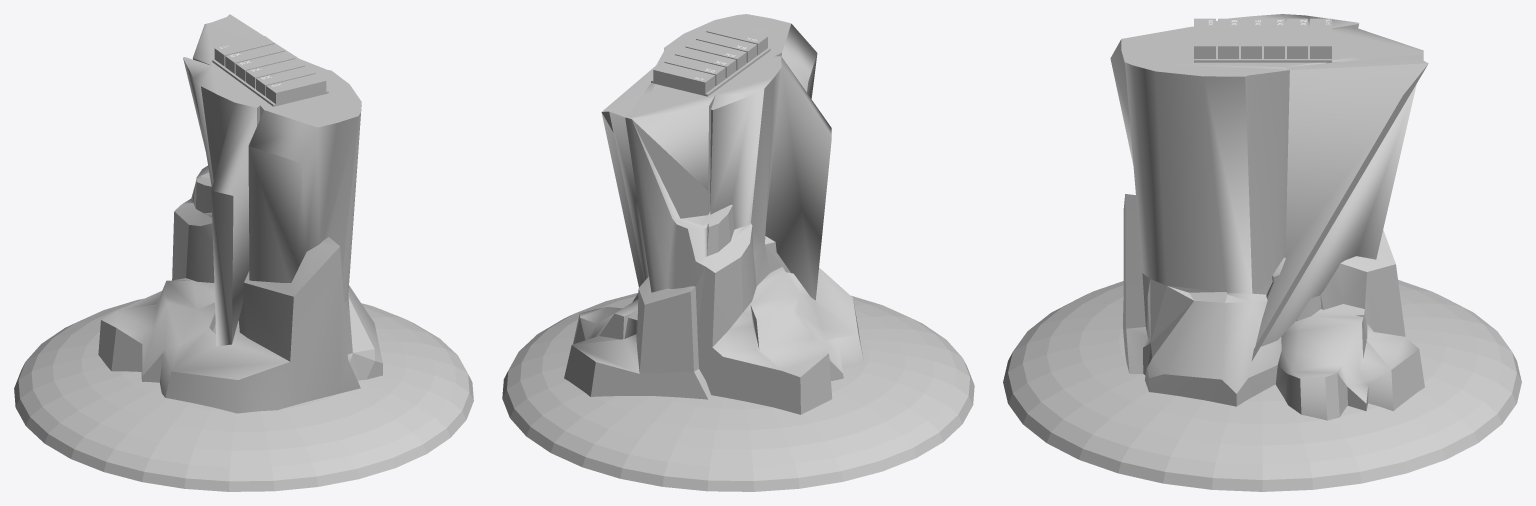
Rendered from platformisland.fbx.
3 views of the same model, side by side, from view 1: azimuth 30°, elevation 25°; view 2: azimuth 150°, elevation 25°; view 3: azimuth 270°, elevation 25° (orthographic). The views are drawn at different scales.
Visible parts, largest first — view 1: Cube.004, Sphere, Cube.002; view 2: Cube.004, Sphere, Cube.002; view 3: Cube.004, Sphere, Cube.002.
Boxes of the visible parts, box(x1,y1,x2,y2) form: Cube.004: box(98, 14, 382, 413); Sphere: box(14, 298, 473, 491); Cube.002: box(212, 36, 328, 106); Cube.004: box(564, 14, 863, 414); Sphere: box(502, 293, 974, 491); Cube.002: box(651, 24, 770, 96); Cube.004: box(1110, 14, 1428, 420); Sphere: box(1003, 280, 1521, 491); Cube.002: box(1194, 18, 1331, 62).
Size of the model in its own units: 1532 by 1189 by 1532.
